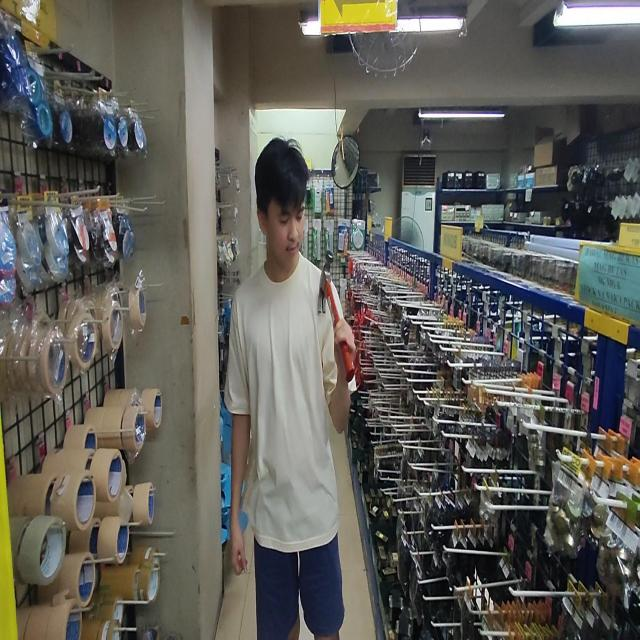hammer: (317, 250, 354, 382)
